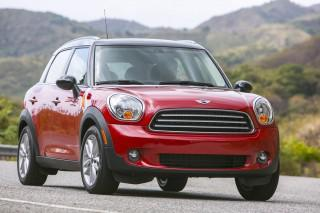mini: (189, 92, 216, 109)
